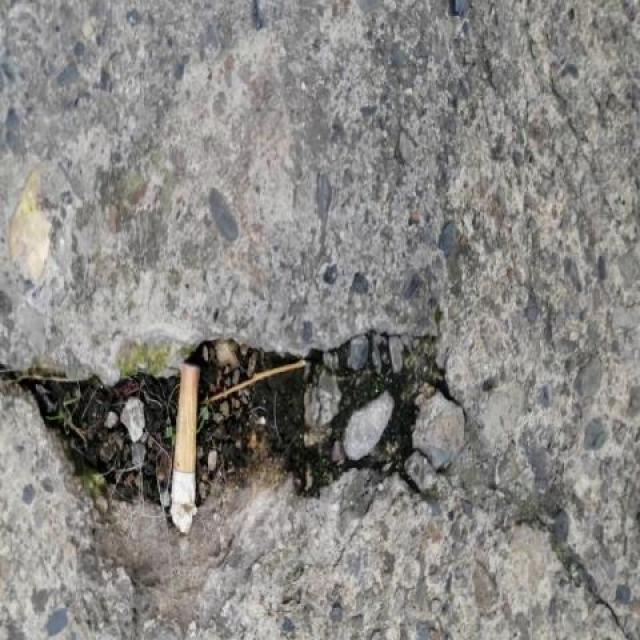non-organic waste: (161, 357, 207, 538)
